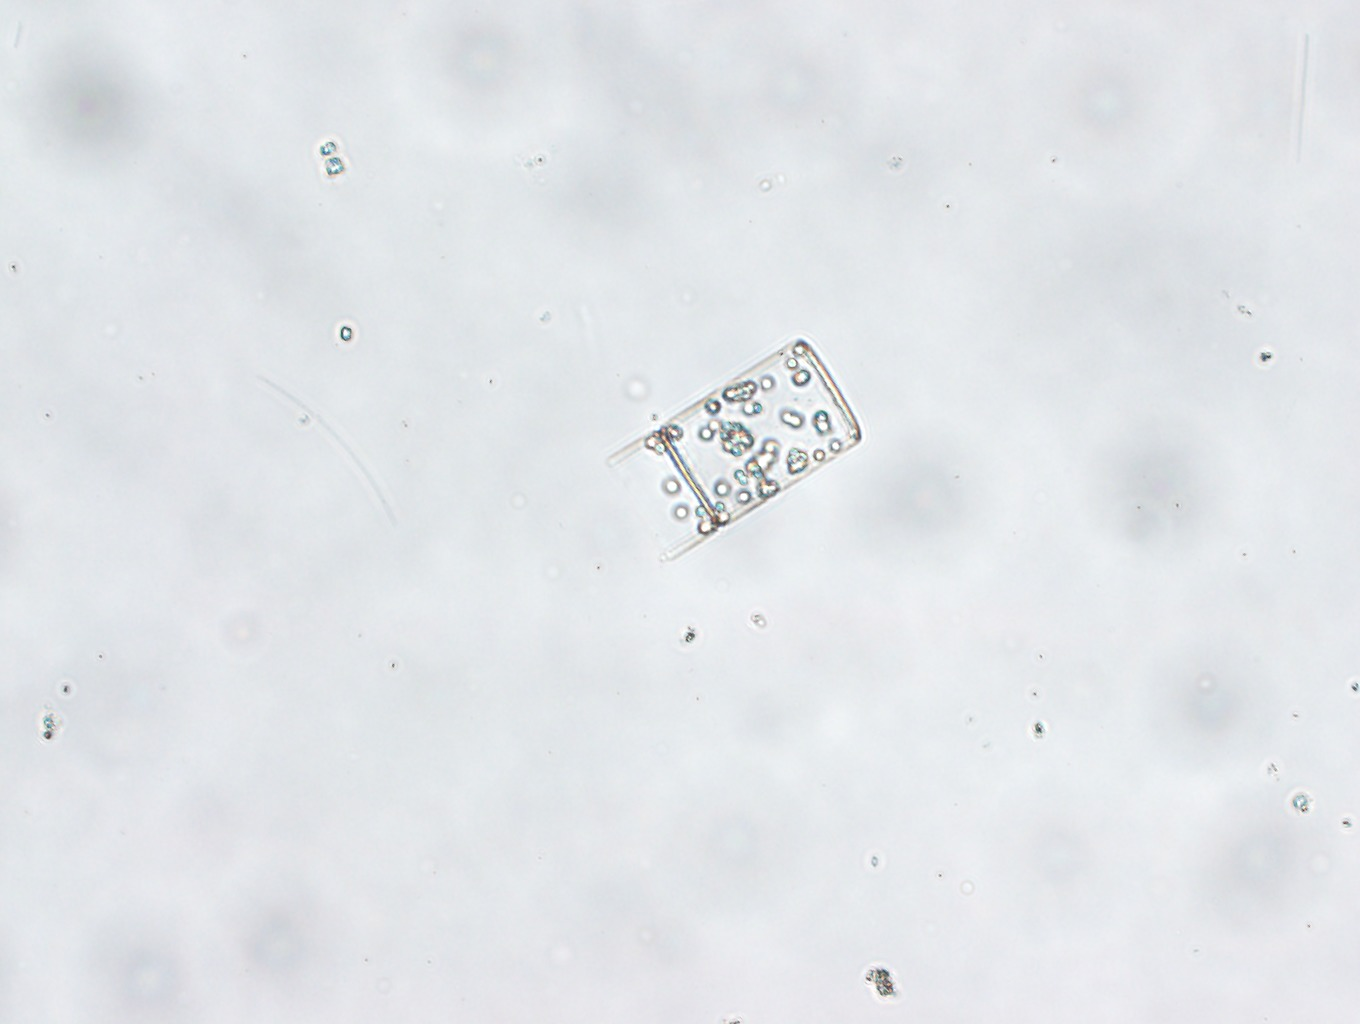guinardia flaccida: (606, 342, 863, 565)
